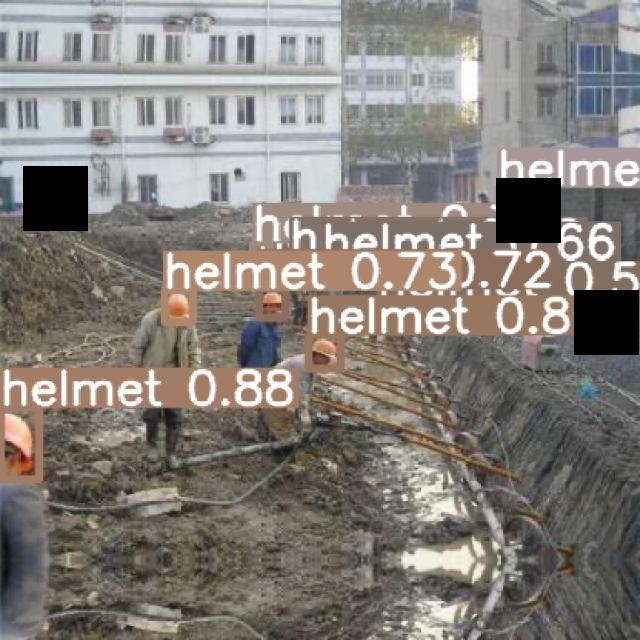red helmet: (3, 406, 41, 480), (164, 286, 195, 332), (310, 334, 341, 367), (261, 289, 284, 315)
